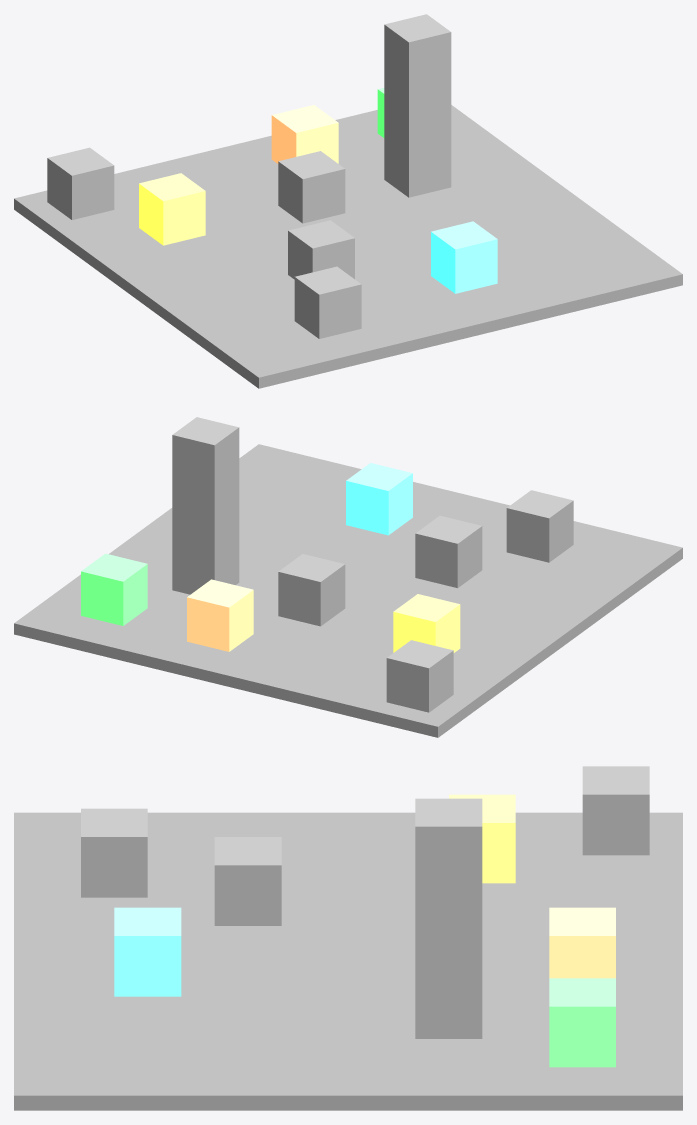
3 views of the same model, one above another, from view 1: azimuth 30°, elevation 25°; view 2: azimuth 150°, elevation 25°; view 3: azimuth 270°, elevation 25° (orthographic). The views are drawn at different scales.
Parts seen in each view (by area): view 1: Cube, Cube.007, Cube.001, Cube.003, Cube.006, Cube.005, Cube.002, Cube.009, Cube.004; view 2: Cube, Cube.007, Cube.003, Cube.001, Cube.004, Cube.006, Cube.009, Cube.005, Cube.008, Cube.002; view 3: Cube, Cube.007, Cube.001, Cube.005, Cube.004, Cube.006, Cube.008, Cube.009, Cube.002.
Part boxes in pixels (box(x1,y1,x2,y2)): Cube: box(14, 105, 682, 388); Cube.007: box(384, 14, 451, 197); Cube.001: box(47, 147, 114, 219); Cube.003: box(278, 151, 345, 223); Cube.006: box(294, 266, 361, 338); Cube.005: box(431, 221, 497, 293); Cube.002: box(139, 173, 205, 245); Cube.009: box(271, 105, 338, 163); Cube.004: box(288, 220, 354, 279); Cube: box(14, 444, 682, 737); Cube.007: box(172, 417, 239, 594); Cube.003: box(278, 554, 345, 626); Cube.001: box(386, 640, 453, 712); Cube.004: box(415, 515, 482, 588); Cube.006: box(506, 490, 573, 562); Cube.009: box(187, 579, 253, 651); Cube.005: box(346, 463, 412, 535); Cube.008: box(81, 553, 147, 625); Cube.002: box(393, 594, 460, 652); Cube: box(14, 812, 682, 1110); Cube.007: box(415, 798, 482, 1038); Cube.001: box(582, 766, 649, 855); Cube.005: box(114, 907, 181, 996); Cube.004: box(214, 837, 281, 925); Cube.006: box(81, 808, 147, 897); Cube.008: box(549, 978, 615, 1067); Cube.009: box(549, 907, 615, 978); Cube.002: box(449, 794, 515, 883).
Size of the model in its own units: 20 by 7.5 by 20.
